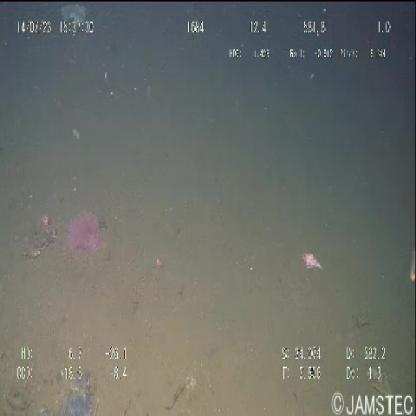Rác: (61, 3, 89, 26)
